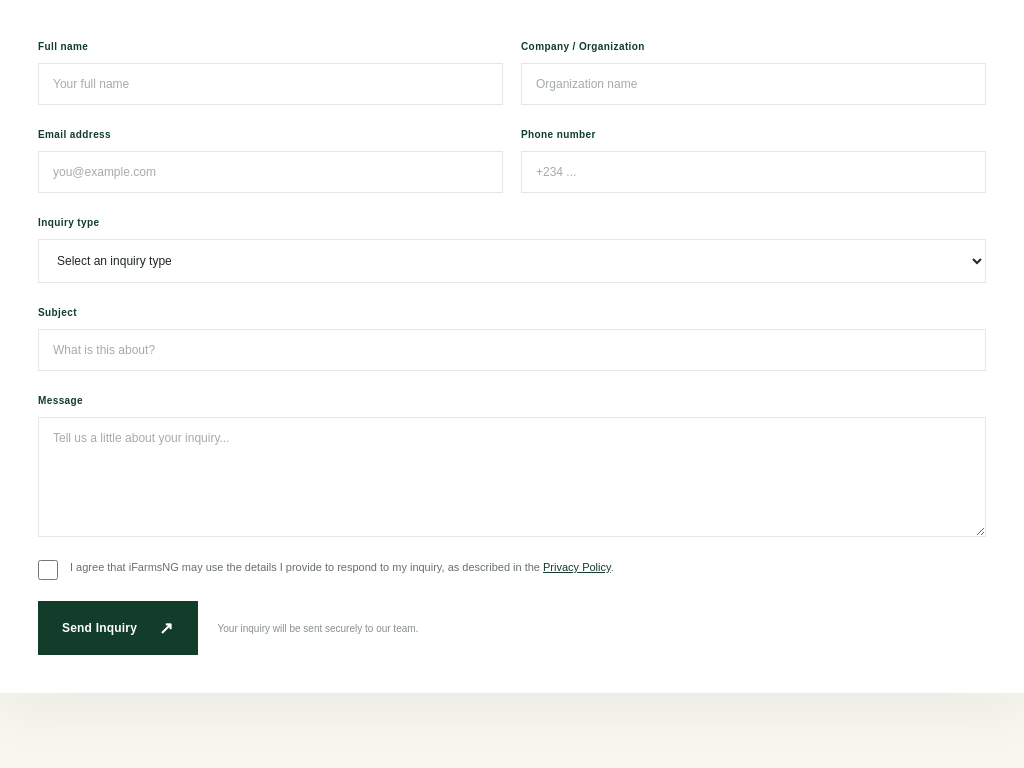
ContactForm › posts JSON in the shape the Rust API expects, then shows the confirmation
Type "Ada Obi" into the field labelled "Full name".
click(270, 84); type("Ada Obi")  # box [38,63,503,105]
Type "ada@example.com" into the field labelled "Email address".
click(270, 172); type("ada@example.com")  # box [38,151,503,193]
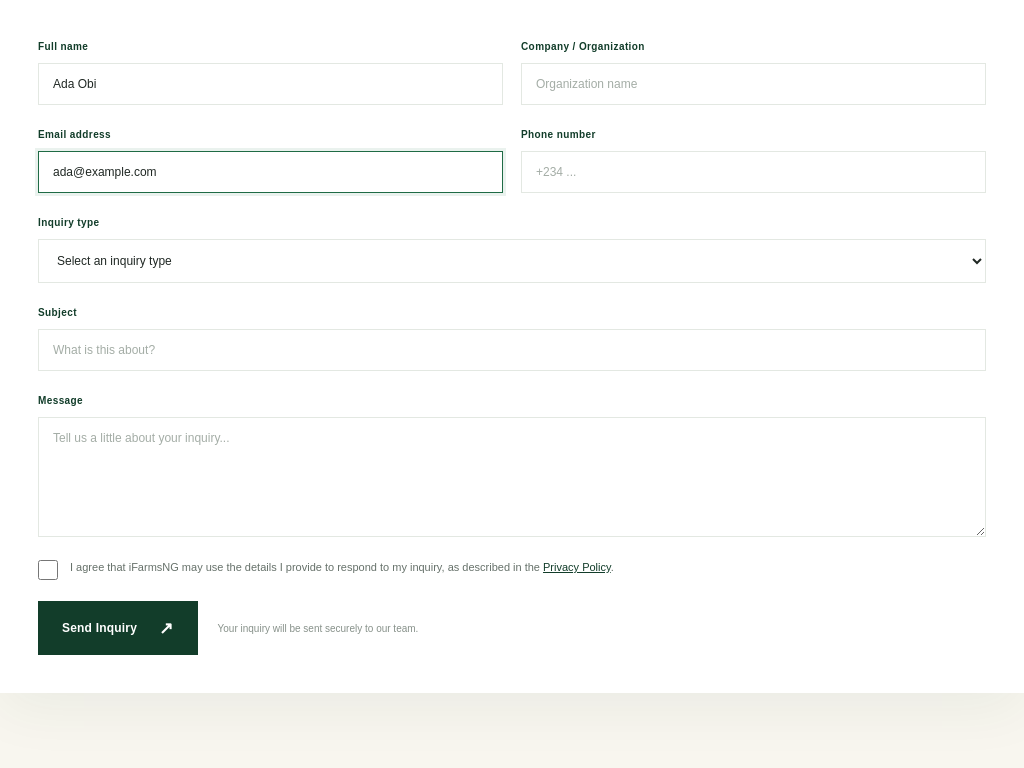
Select "Commodity Supply" in the dropdown labelled "Inquiry type" at [512, 261], box [38,239,986,283]
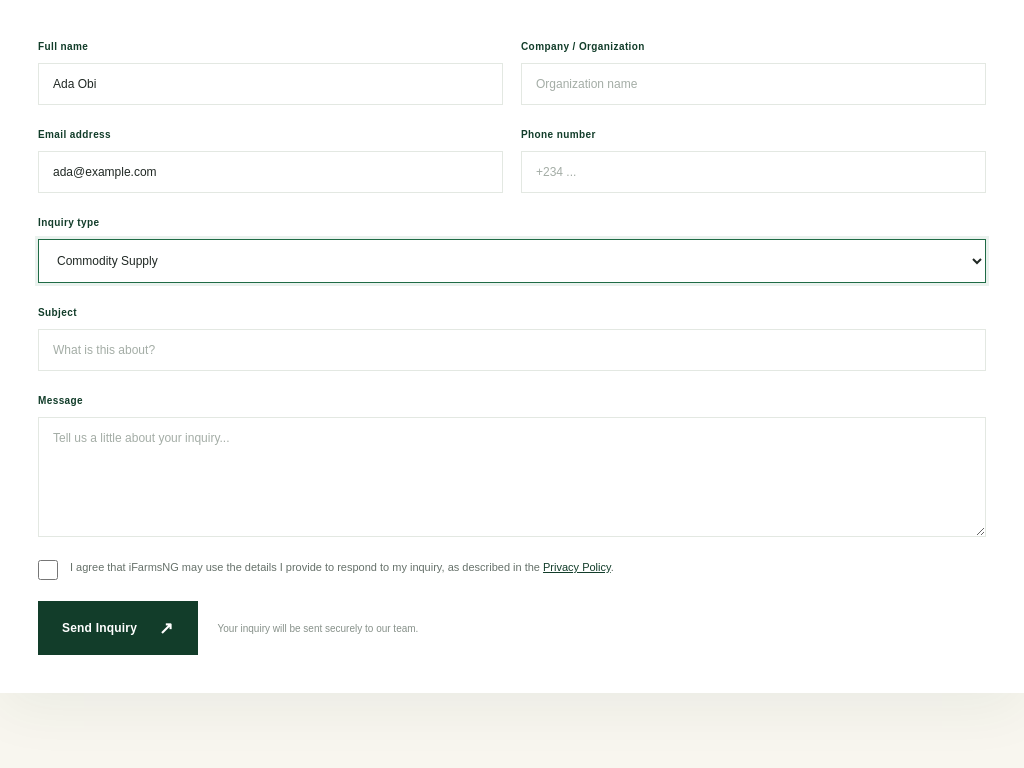
Type "Rice supply" into the field labelled "Subject".
click(512, 350); type("Rice supply")  # box [38,329,986,371]
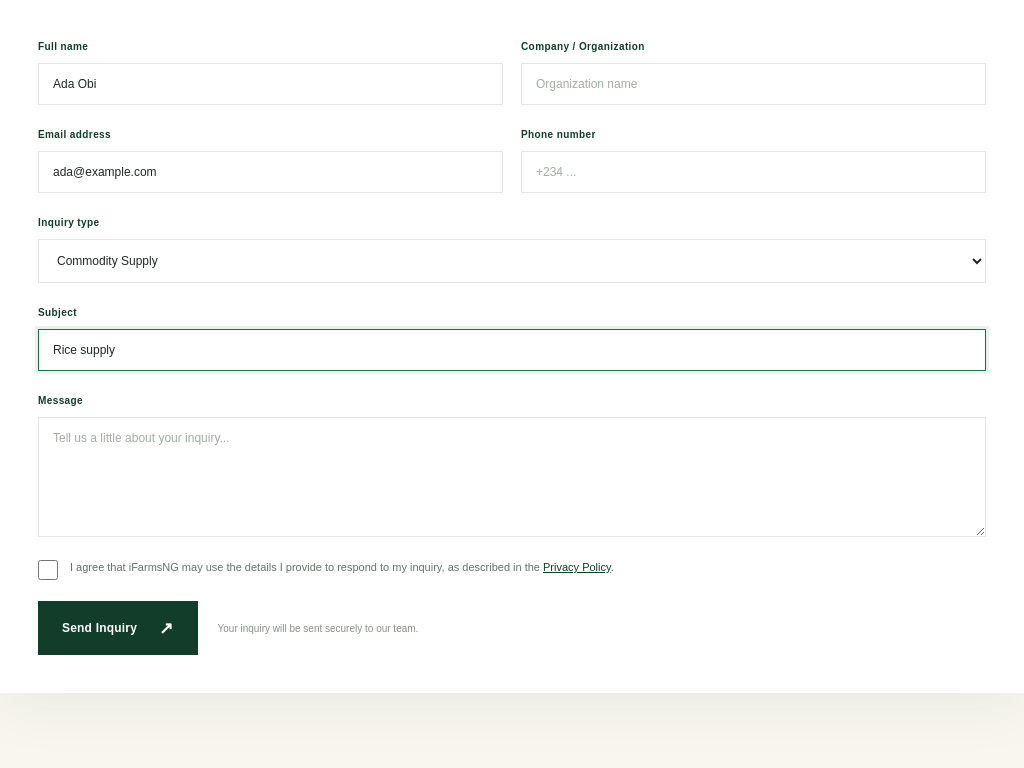
Type "We would like regular rice supply." into the text box labelled "Message".
click(512, 477); type("We would like regular rice supply.")  # box [38,417,986,537]
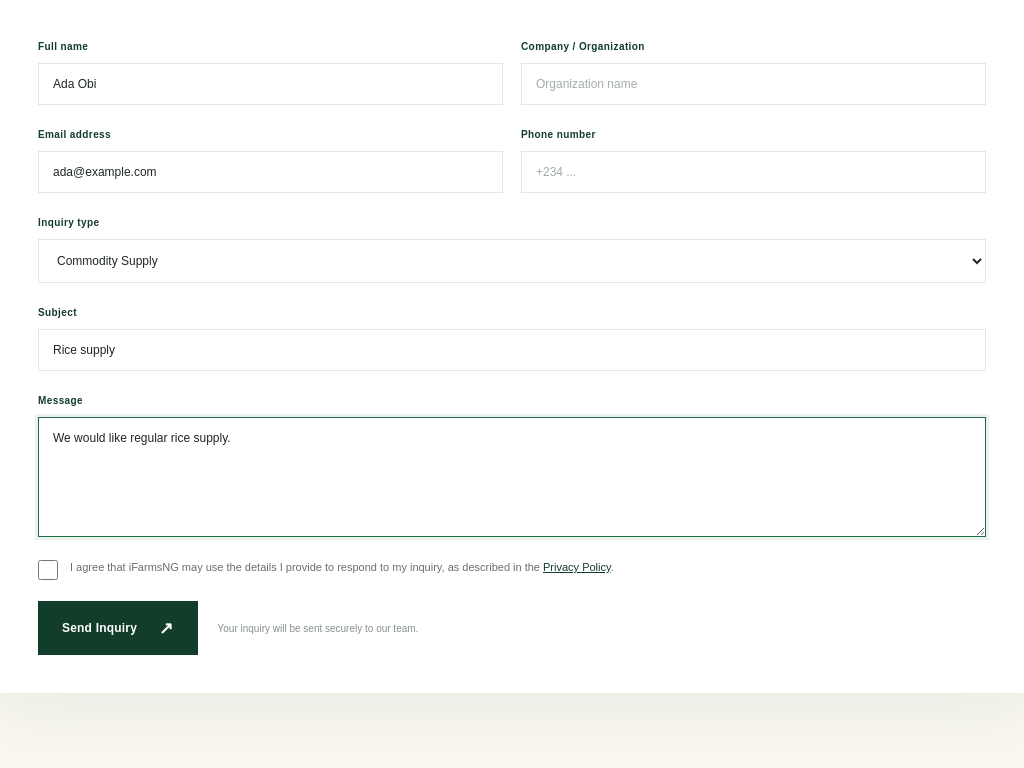
Click the checkbox.
click(48, 570)  # box [38,560,58,580]
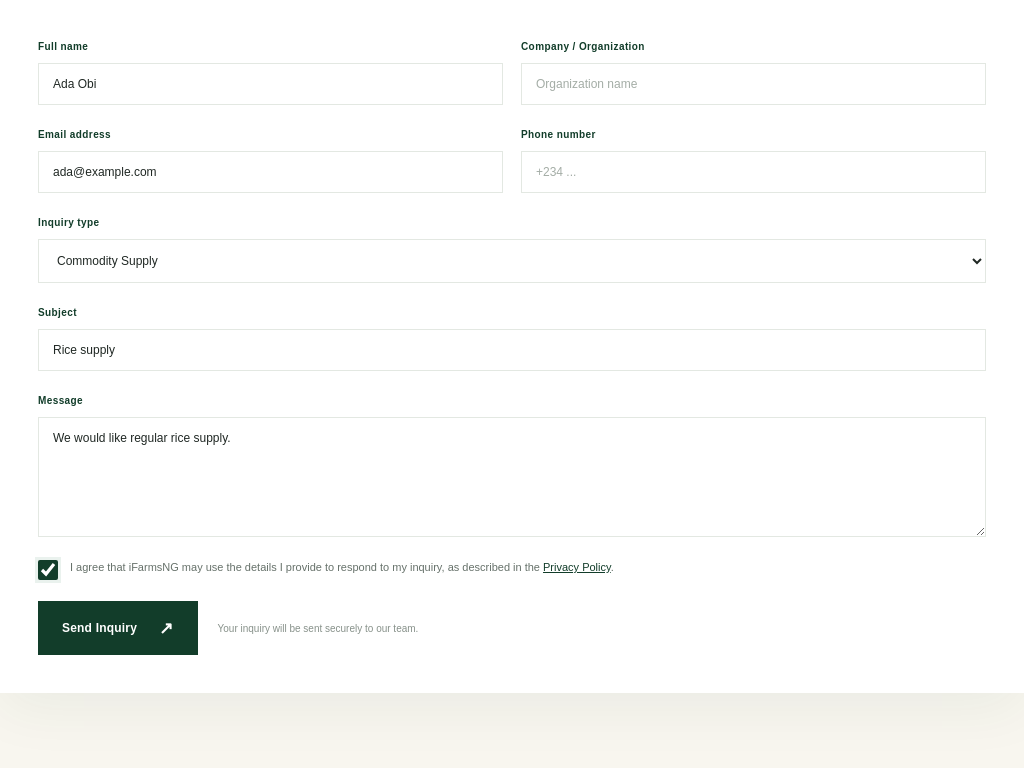
Click the button "Send Inquiry ↗".
click(118, 628)  # box [38,601,198,655]
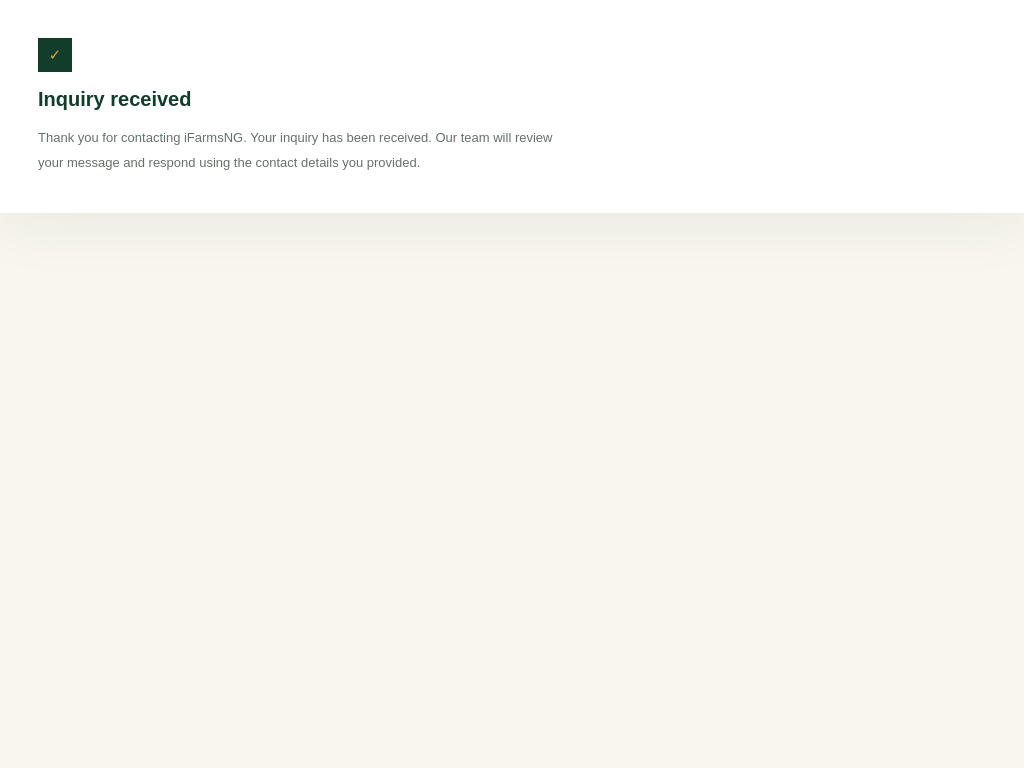
Expected: the text "Thank you for contacting iFarmsNG. Your inquiry has been received. Our team will review your message and respond using t" is shown, [38,130,552,170]
